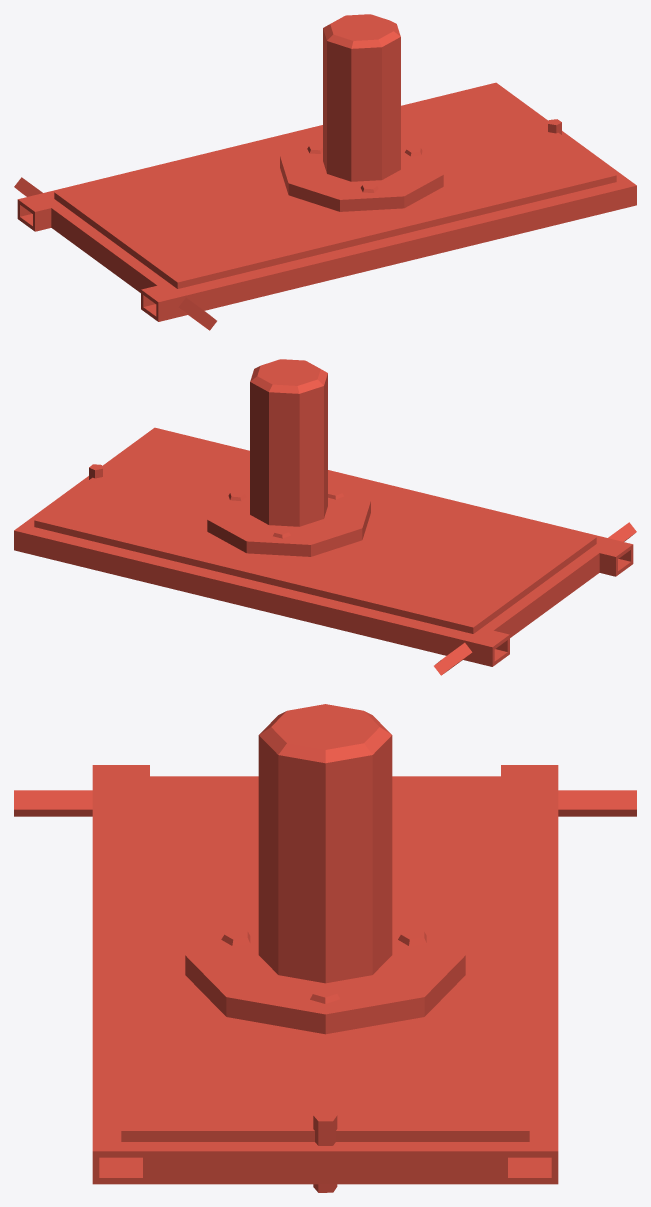
The model's file is SM_Wind_Machine_Bottom.fbx.
The picture shows the model from 3 angles, top to bottom: view 1: azimuth 30°, elevation 25°; view 2: azimuth 150°, elevation 25°; view 3: azimuth 270°, elevation 25°; orthographic projection. The views are drawn at different scales.
Visible parts, largest first — view 1: SM_Wind_Machine_Bottom; view 2: SM_Wind_Machine_Bottom; view 3: SM_Wind_Machine_Bottom.
Part boxes in pixels (x1,y1,x2,y2): SM_Wind_Machine_Bottom: (14, 14, 636, 330); SM_Wind_Machine_Bottom: (14, 359, 636, 675); SM_Wind_Machine_Bottom: (14, 704, 636, 1192).
Size of the model in its own units: 66.41 by 97.5 by 35.98.
